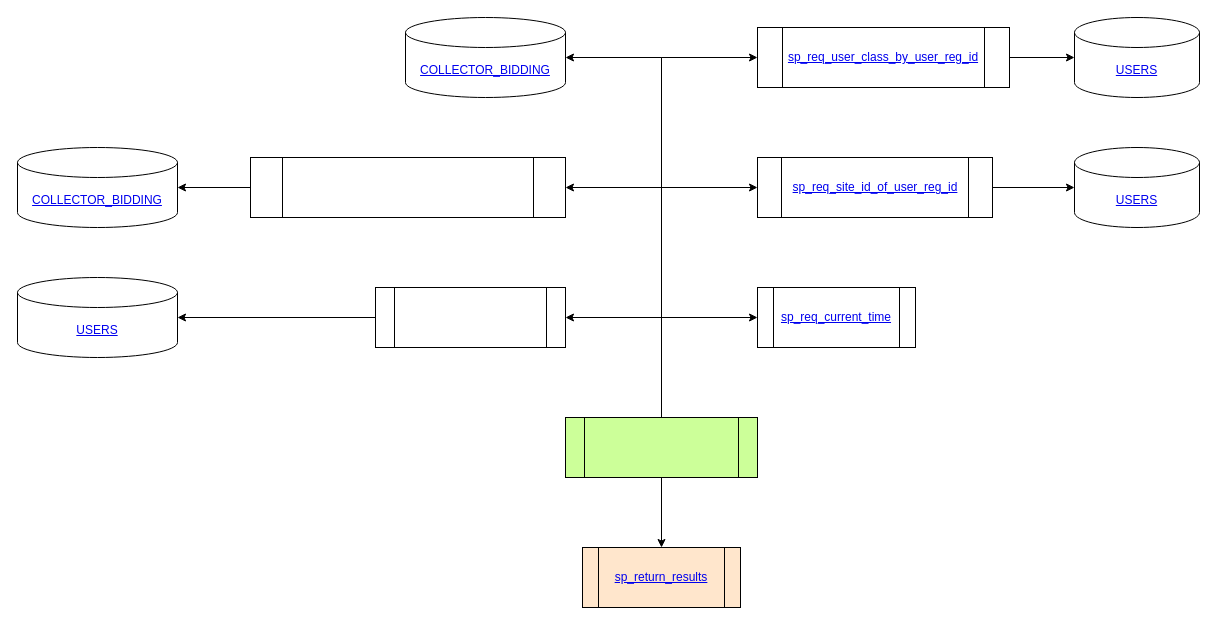
Image size: 1217x625. Some labels were removed from this diagram. Each missing label, with the centre of its shape:
"sp_disposer_reject_visit" goes at pixel 661 447.
"sp_req_disposal_id_of_collector_bidding_id" goes at pixel 408 187.
"sp_req_user_exists_by_id" goes at pixel 470 317.
